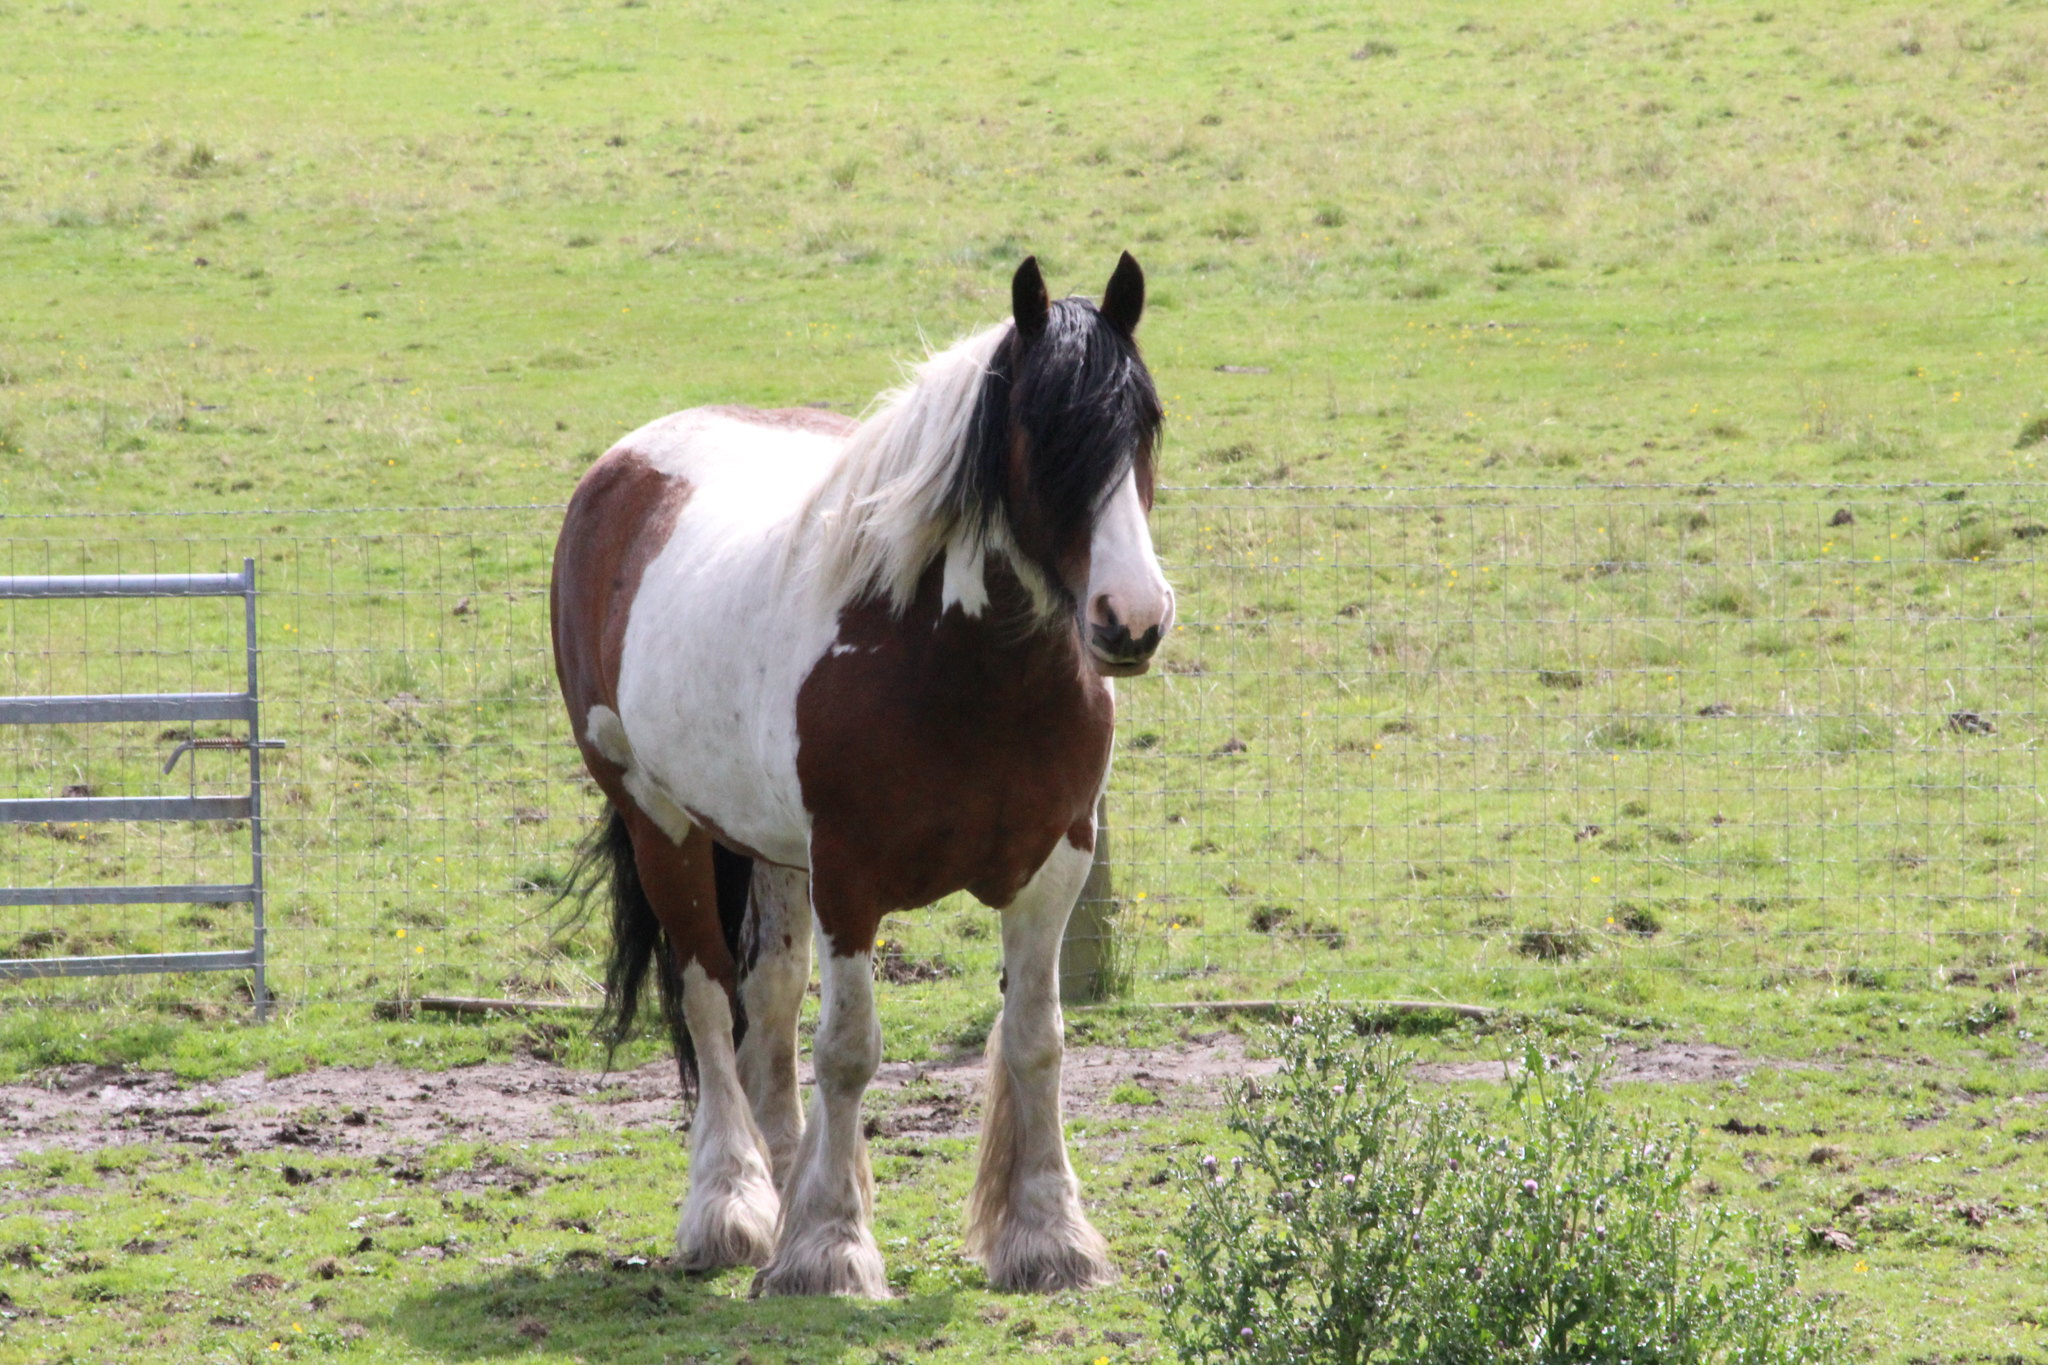horse: (541, 248, 1172, 1306)
